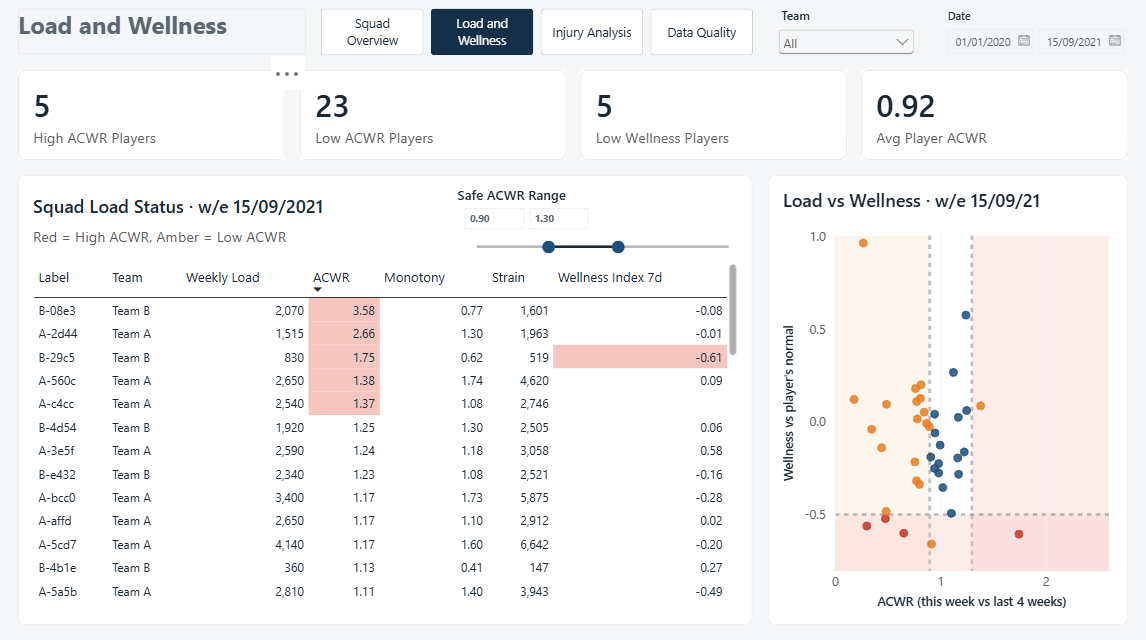

What the dashboard file says about the page in this screenshot:
{"tool":"powerbi","page":{"name":"Load and Wellness","canvas":[1280,720],"ordinal":1},"visuals":[{"type":"scatterChart","fields":{"Category":["Players.Label"],"X":["_Measure.ACWR"],"Y":["_Measure.Wellness Index 7d"]},"box":[856,196,400,500],"z":5000},{"type":"tableEx","fields":{"Values":["Players.Label","Players.Team","_Measure.Weekly Load","_Measure.ACWR","_Measure.Monotony","_Measure.Strain","_Measure.Wellness Index 7d"]},"box":[24,196,816,500],"z":5125},{"type":"slicer","title":"Safe ACWR Range","fields":{"Values":["ACWR Band.ACWR Band"]},"box":[512,208,320,80],"z":5187},{"type":"cardVisual","title":"Avg Player ACWR KPI","fields":{"Data":["_Measure.Avg Player ACWR"]},"box":[960,80,296,100],"z":5250},{"type":"cardVisual","title":"Low Wellness KPI","fields":{"Data":["_Measure.Low Wellness Players"]},"box":[648,80,296,100],"z":5500},{"type":"cardVisual","title":"Low ACWR KPI","fields":{"Data":["_Measure.Low ACWR Players"]},"box":[336,80,296,100],"z":6000},{"type":"cardVisual","title":"High ACWR KPI","fields":{"Data":["_Measure.High ACWR Players"]},"box":[24,80,296,100],"z":7000},{"type":"slicer","title":"Date Slicer","fields":{"Values":["Date.Date"]},"box":[1048,12,208,52],"z":9000},{"type":"slicer","title":"Team Slicer","fields":{"Values":["Players.Team"]},"box":[864,10,160,64],"z":9500},{"type":"pageNavigator","box":[360,12,480,52],"z":10250},{"type":"textbox","title":"Title","box":[24,12,320,52],"z":10500}]}

Visuals, with their boxes in screenshot pixels (x1, y1, x2, y2), scaled from the page's 1280x720 canvas onto the 1146x640 screenshot:
scatterChart - Players.Label x _Measure.ACWR: left=766, top=174, right=1125, bottom=619
tableEx - Players.Label x Players.Team: left=21, top=174, right=752, bottom=619
"Safe ACWR Range" slicer: left=458, top=185, right=745, bottom=256
"Avg Player ACWR KPI" cardVisual: left=860, top=71, right=1125, bottom=160
"Low Wellness KPI" cardVisual: left=580, top=71, right=845, bottom=160
"Low ACWR KPI" cardVisual: left=301, top=71, right=566, bottom=160
"High ACWR KPI" cardVisual: left=21, top=71, right=286, bottom=160
"Date Slicer" slicer: left=938, top=11, right=1125, bottom=57
"Team Slicer" slicer: left=774, top=9, right=917, bottom=66
pageNavigator: left=322, top=11, right=752, bottom=57
"Title" textbox: left=21, top=11, right=308, bottom=57
